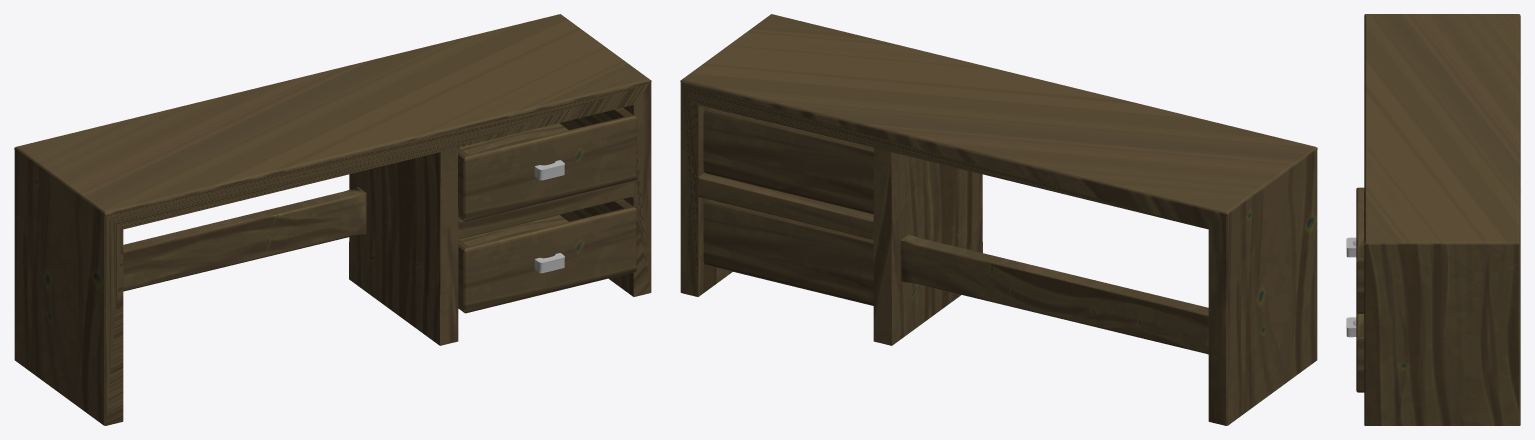
File: DESK.fbx
3 views of the same model, side by side, from view 1: azimuth 30°, elevation 25°; view 2: azimuth 150°, elevation 25°; view 3: azimuth 270°, elevation 25° (orthographic). The views are drawn at different scales.
Parts seen in each view (by area): view 1: pasted__pasted__pCube7; view 2: pasted__pasted__pCube7; view 3: pasted__pasted__pCube7.
Part boxes in pixels (x1,y1,x2,y2): pasted__pasted__pCube7: (14,14,651,425); pasted__pasted__pCube7: (680,14,1317,425); pasted__pasted__pCube7: (1346,14,1520,425).
Size of the model in its own units: 14.38 by 5.4 by 4.61.
